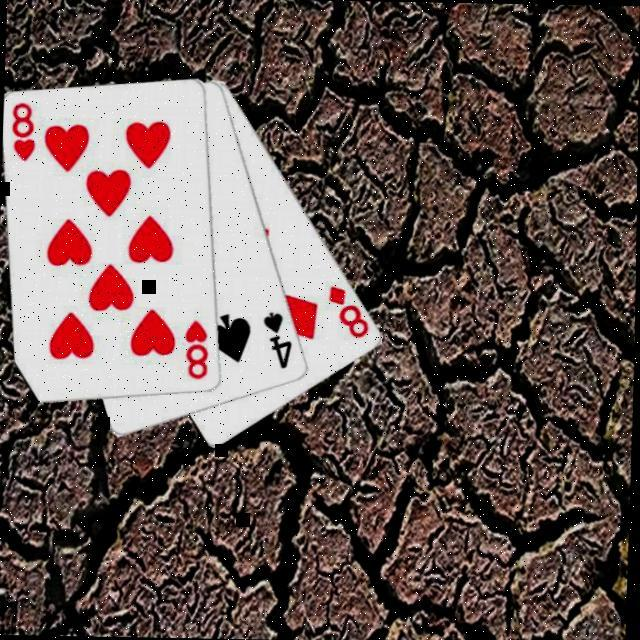4S: (260, 308, 298, 371)
8D: (326, 281, 376, 340)
8H: (183, 316, 215, 381), (9, 98, 41, 163)
